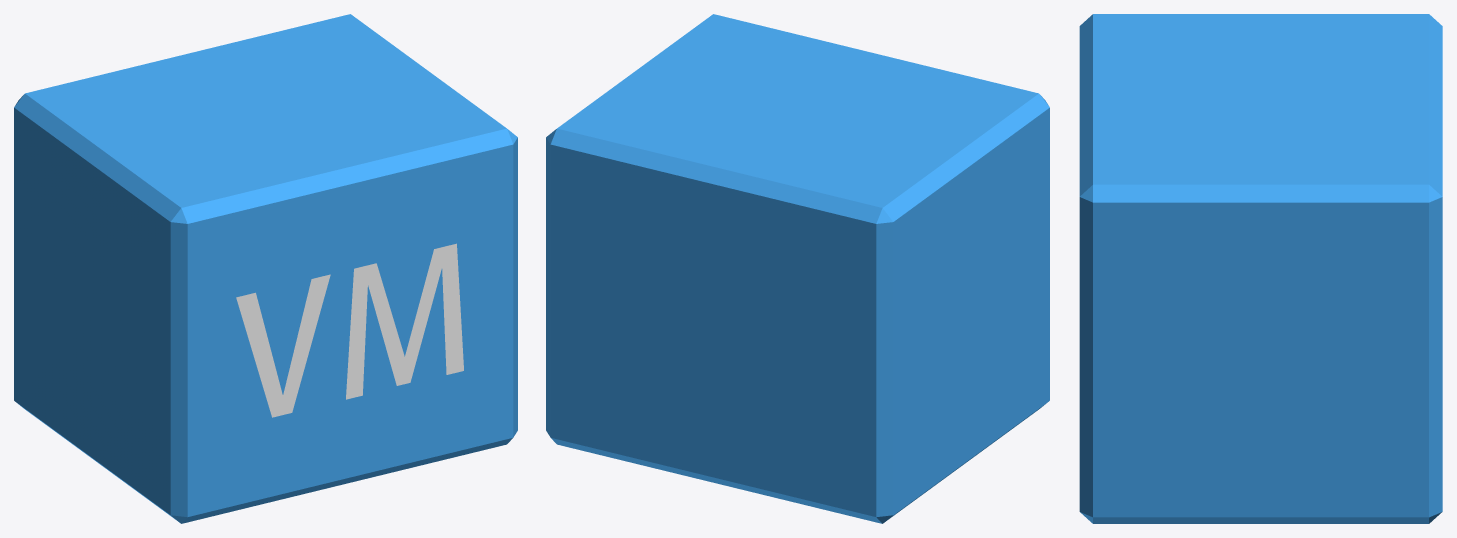
The picture shows the model from 3 angles, left to right: view 1: azimuth 30°, elevation 25°; view 2: azimuth 150°, elevation 25°; view 3: azimuth 270°, elevation 25°; orthographic projection. The views are drawn at different scales.
Parts seen in each view (by area): view 1: VM; view 2: VM; view 3: VM.
Part boxes in pixels (<box>): VM: <box>14,14,517,523</box>; VM: <box>546,14,1049,523</box>; VM: <box>1079,14,1442,523</box>.
Size of the model in its own units: 0.5527 by 0.4804 by 0.4674.
